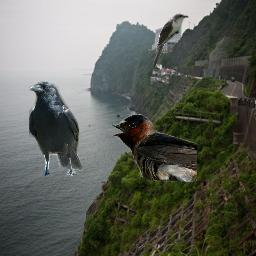Crow: (29, 81, 83, 176)
Cuckoo: (151, 13, 189, 69)
Swallow: (110, 114, 197, 182)
